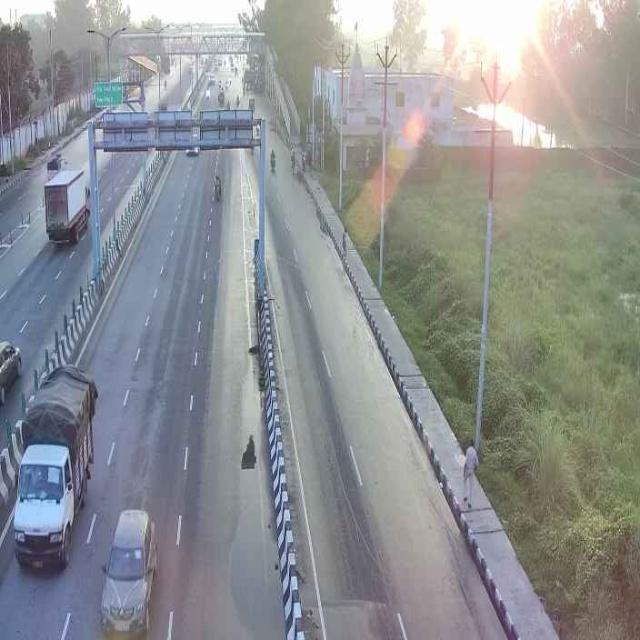car: (98, 500, 158, 637)
